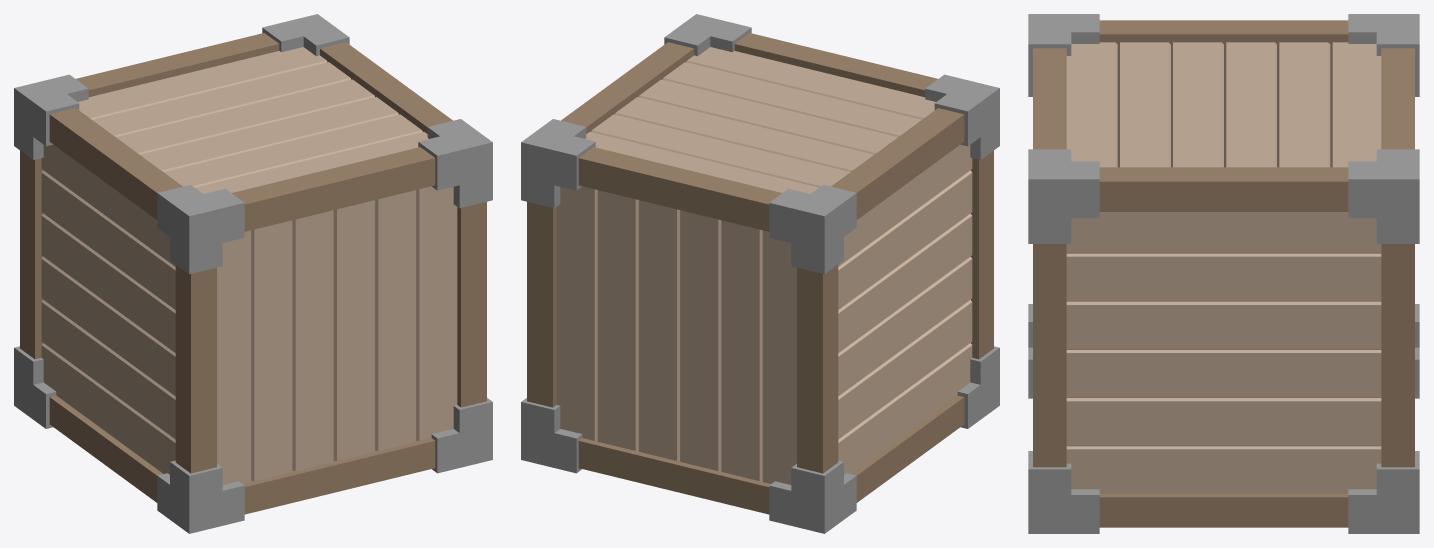
The model's file is WoodenCrate.glb.
3 views of the same model, side by side, from view 1: azimuth 30°, elevation 25°; view 2: azimuth 150°, elevation 25°; view 3: azimuth 270°, elevation 25° (orthographic). The views are drawn at different scales.
Parts seen in each view (by area): view 1: SM_WoodenCrate; view 2: SM_WoodenCrate; view 3: SM_WoodenCrate.
Boxes of the visible parts, bbox=[...] form: SM_WoodenCrate: bbox=[14, 14, 492, 533]; SM_WoodenCrate: bbox=[521, 14, 999, 533]; SM_WoodenCrate: bbox=[1028, 14, 1419, 533].
Bounding box in the file's own units: 0.9268 × 0.9268 × 0.9268.
